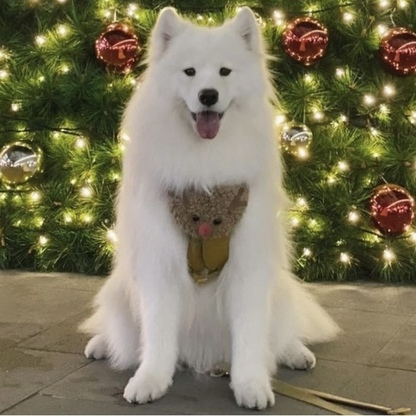samoyed: (72, 1, 349, 416)
